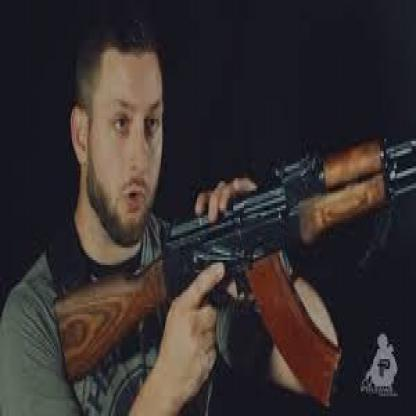Gun: (20, 114, 414, 401)
